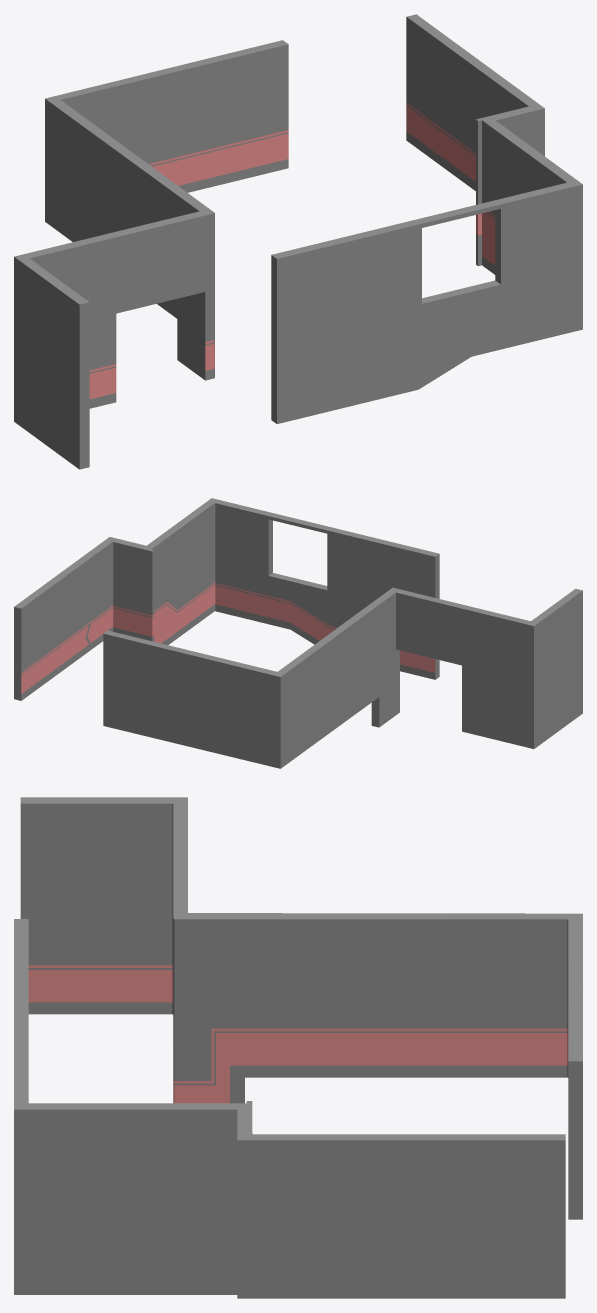
The model's file is S_Envi_FZFBase_Wall_03d.gltf.
The picture shows the model from 3 angles, top to bottom: view 1: azimuth 30°, elevation 25°; view 2: azimuth 150°, elevation 25°; view 3: azimuth 270°, elevation 25°; orthographic projection. The views are drawn at different scales.
Parts seen in each view (by area): view 1: S_Envi_FZFBase_Wall_03d; view 2: S_Envi_FZFBase_Wall_03d; view 3: S_Envi_FZFBase_Wall_03d.
Boxes of the visible parts, x1=… form: S_Envi_FZFBase_Wall_03d: x1=14, y1=14, x2=582, y2=469; S_Envi_FZFBase_Wall_03d: x1=14, y1=498, x2=582, y2=768; S_Envi_FZFBase_Wall_03d: x1=14, y1=797, x2=582, y2=1298.
Bounding box in the file's own units: 27.62 × 7.93 × 19.37.
